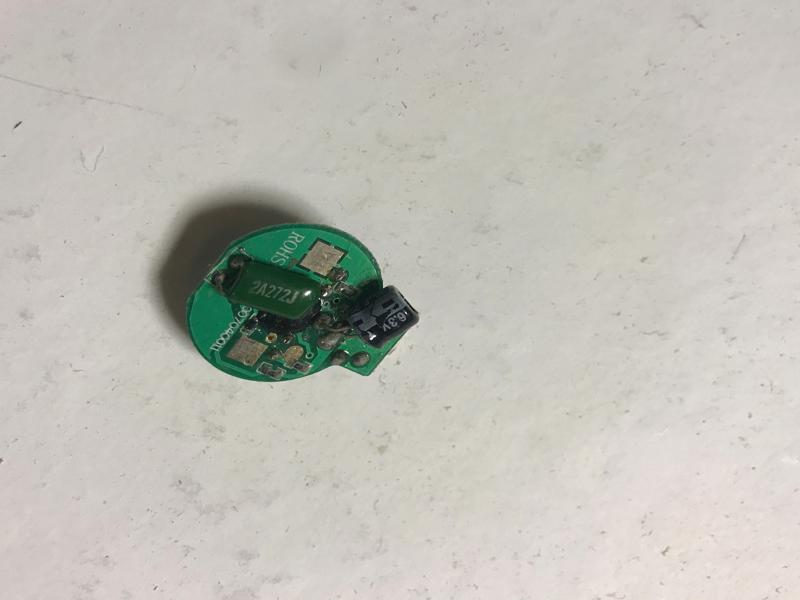Capacitor: (348, 282, 426, 362)
